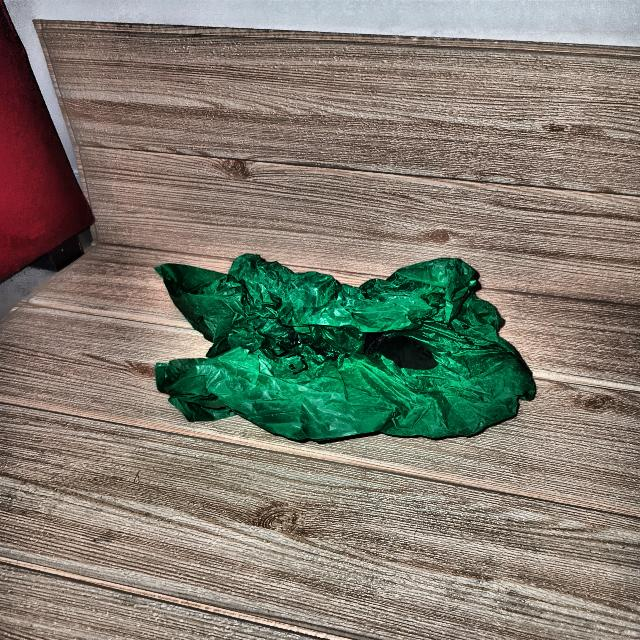plastic bag: (113, 230, 558, 456)
